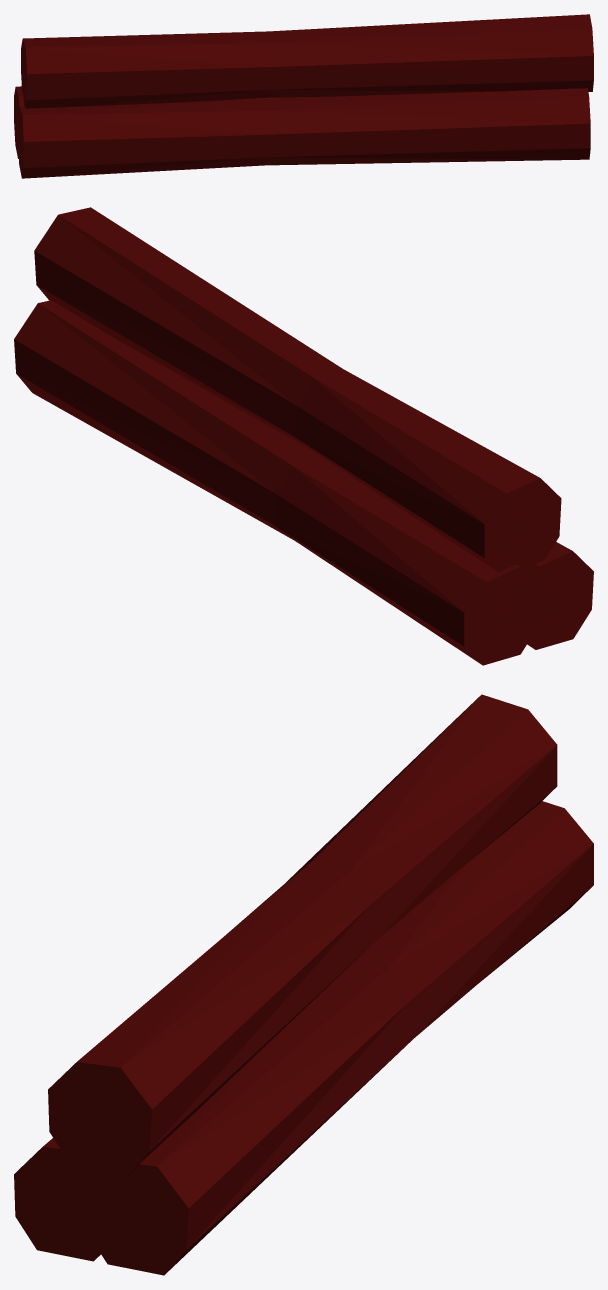
The model's file is log obstacle.fbx.
The picture shows the model from 3 angles, top to bottom: view 1: azimuth 30°, elevation 25°; view 2: azimuth 150°, elevation 25°; view 3: azimuth 270°, elevation 25°; orthographic projection. The views are drawn at different scales.
Parts seen in each view (by area): view 1: Log.007, Log.008, Log.006; view 2: Log.007, Log.006, Log.008; view 3: Log.007, Log.006, Log.008.
Boxes of the visible parts, left/top/right/bottom form: Log.007: left=21, top=14, right=593, bottom=108; Log.008: left=17, top=88, right=590, bottom=178; Log.006: left=14, top=86, right=301, bottom=158; Log.007: left=34, top=207, right=561, bottom=572; Log.006: left=14, top=300, right=539, bottom=665; Log.008: left=315, top=452, right=593, bottom=649; Log.007: left=48, top=694, right=557, bottom=1176; Log.006: left=84, top=801, right=593, bottom=1275; Log.008: left=14, top=1138, right=115, bottom=1261.
Size of the model in its own units: 1824 by 432 by 1117.
